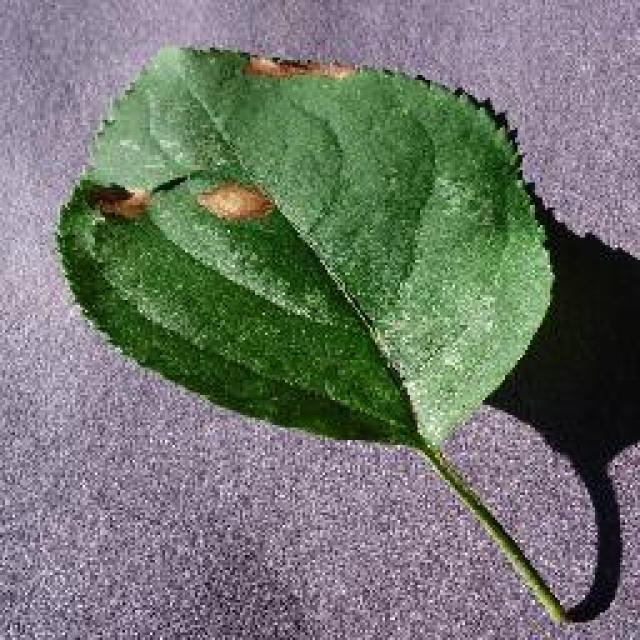apple healthy: (52, 40, 638, 625)
